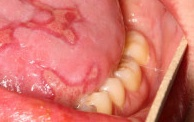SJS-TEN: (0, 0, 88, 56), (36, 59, 109, 114)
